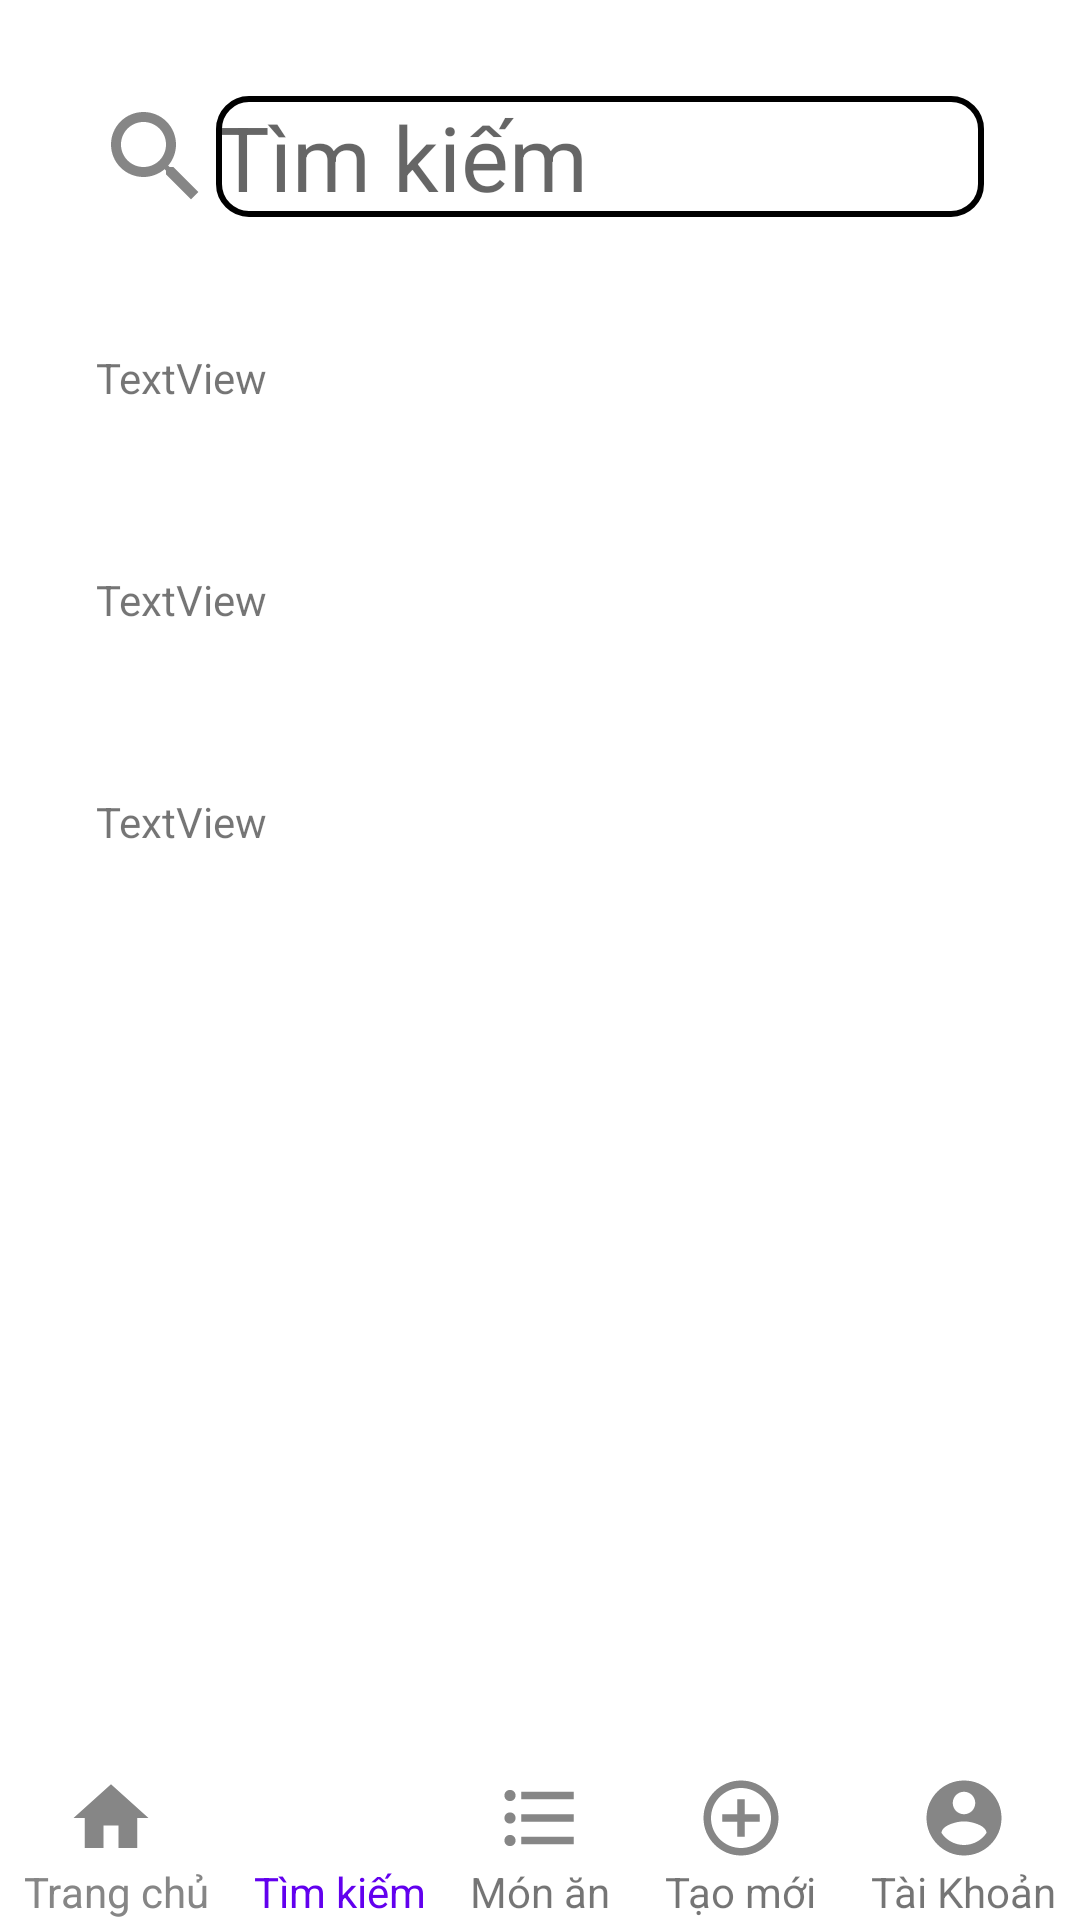

Icons on this 1080px x 1920px Android screen, each with the point to tap as (x=x, y=y):
tao cong thuc: (x=741, y=1818)
tim kiem: (x=154, y=155)
